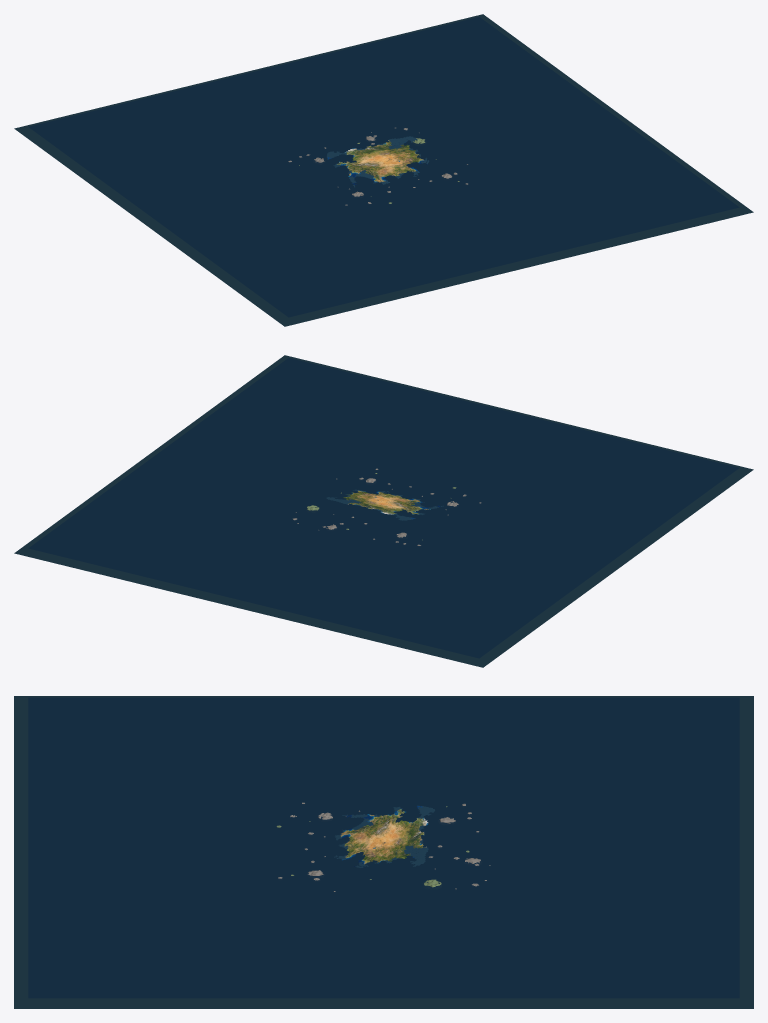
The model's file is island.glb.
3 views of the same model, one above another, from view 1: azimuth 30°, elevation 25°; view 2: azimuth 150°, elevation 25°; view 3: azimuth 270°, elevation 25° (orthographic). The views are drawn at different scales.
Parts seen in each view (by area): view 1: Ocean, Seafloor, Island; view 2: Ocean, Seafloor, Island; view 3: Ocean, Seafloor, Island.
Part boxes in pixels (x1,y1,x2,y2): Ocean: [29, 17, 739, 317]; Seafloor: [14, 14, 753, 326]; Island: [326, 136, 429, 187]; Ocean: [28, 358, 738, 658]; Seafloor: [14, 355, 753, 667]; Island: [326, 489, 443, 520]; Ocean: [28, 697, 739, 998]; Seafloor: [14, 696, 753, 1008]; Island: [334, 805, 434, 867].
Size of the model in its own units: 104000 by 3047 by 104000.
5 materials, 1 textured.
